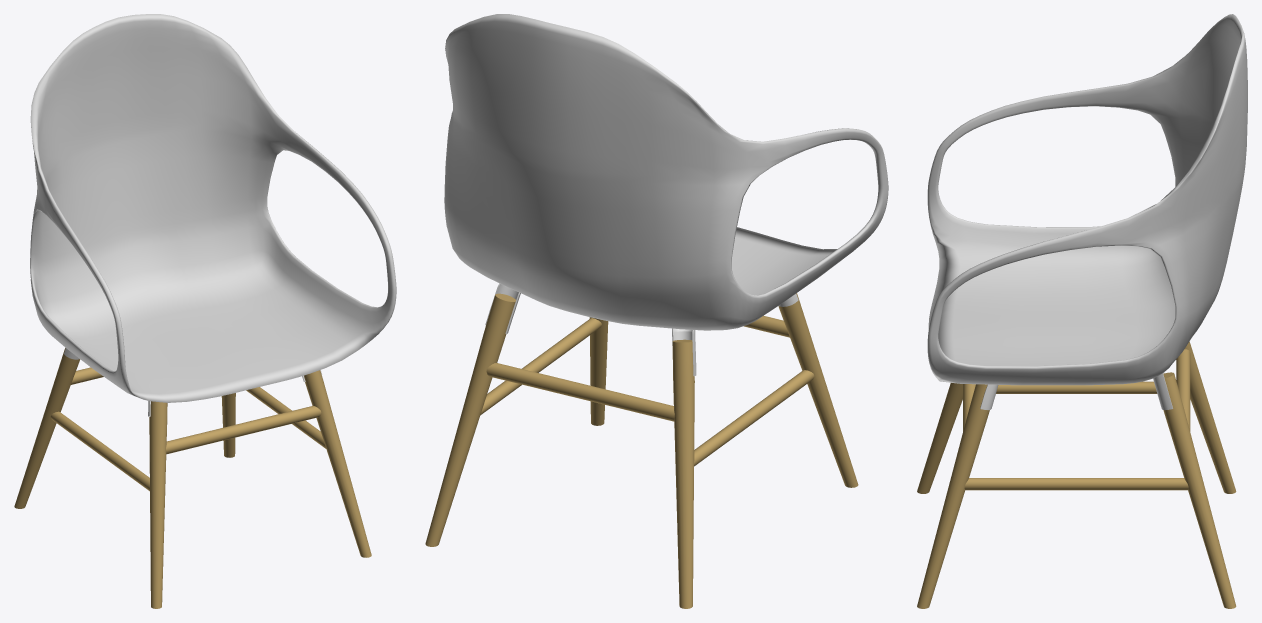
The model's file is SillaBlanca_Coworking.fbx.
3 renders of one model, left to right at view 1: azimuth 30°, elevation 25°; view 2: azimuth 150°, elevation 25°; view 3: azimuth 270°, elevation 25°, orthographic. The views are drawn at different scales.
Parts seen in each view (by area): view 1: SillaBlanca; view 2: SillaBlanca; view 3: SillaBlanca.
Part boxes in pixels (x1,y1,x2,y2): SillaBlanca: (14,14,396,608); SillaBlanca: (425,14,888,608); SillaBlanca: (917,14,1247,608).
Bounding box in the file's own units: 54.61 × 86.7 × 50.4.
